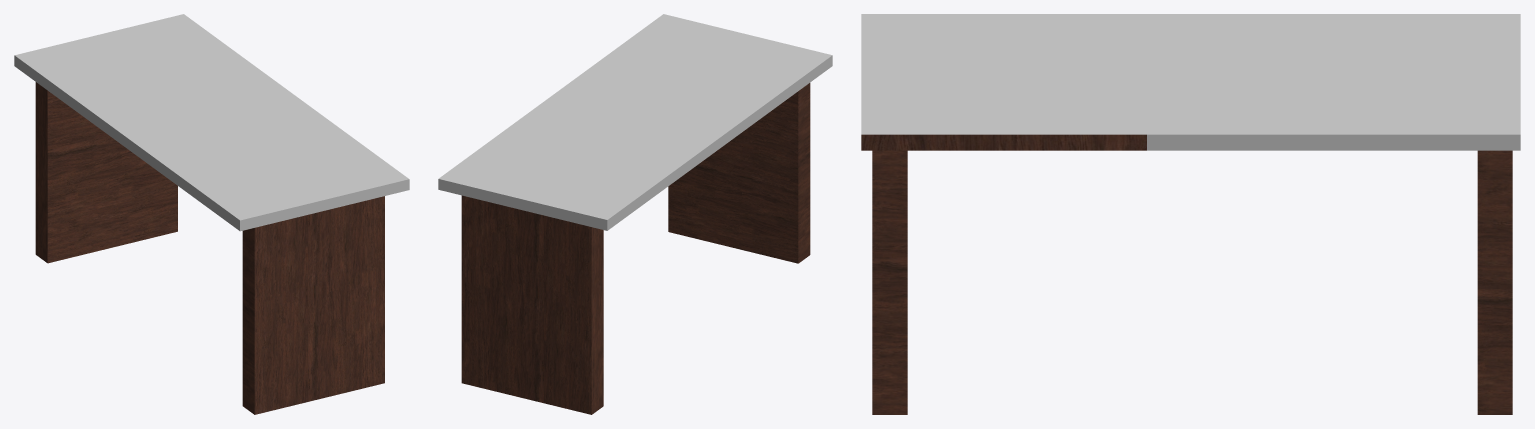
File: desk_small.fbx
3 renders of one model, left to right at view 1: azimuth 30°, elevation 25°; view 2: azimuth 150°, elevation 25°; view 3: azimuth 270°, elevation 25°, orthographic. The views are drawn at different scales.
Visible parts, largest first — view 1: Cube, Cube_003, Cube_002; view 2: Cube, Cube_002, Cube_003; view 3: Cube, Cube_003, Cube_002.
Boxes of the visible parts, x1,y1,x2,y2 form: Cube: [14, 14, 409, 231]; Cube_003: [242, 196, 384, 414]; Cube_002: [35, 82, 177, 263]; Cube: [438, 14, 832, 230]; Cube_002: [461, 195, 603, 414]; Cube_003: [668, 83, 810, 263]; Cube: [861, 14, 1520, 150]; Cube_003: [872, 150, 907, 414]; Cube_002: [1477, 150, 1512, 414].
Bounding box in the file's own units: 0.65 × 0.74 × 1.5.
